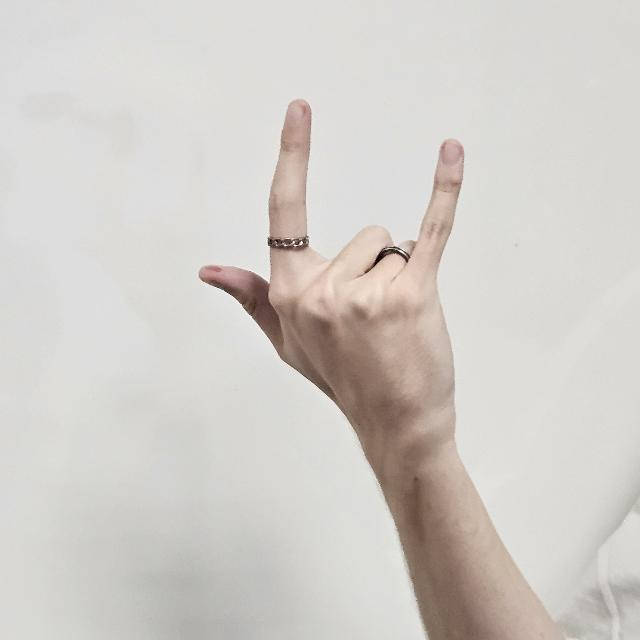Cima: (196, 97, 464, 480)
